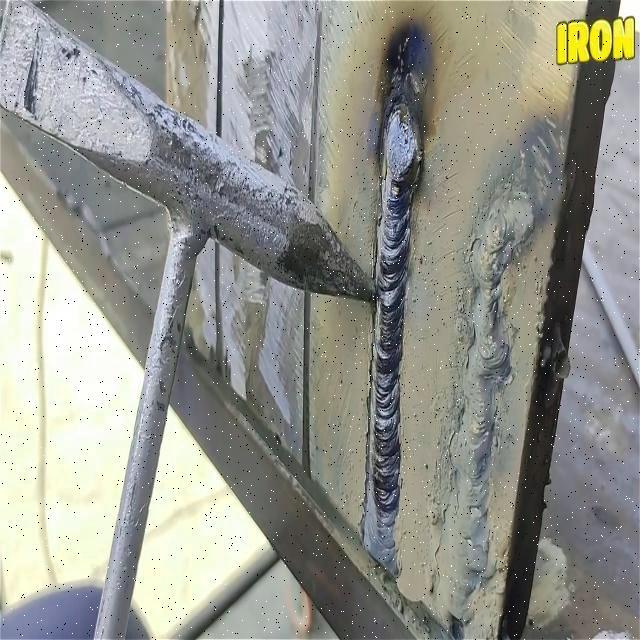Bad Welding: (436, 189, 535, 630), (361, 62, 422, 576)
